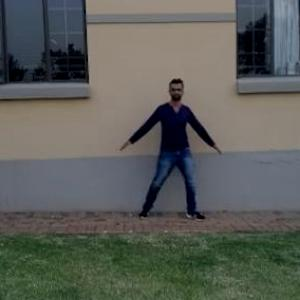land: (118, 81, 219, 234)
